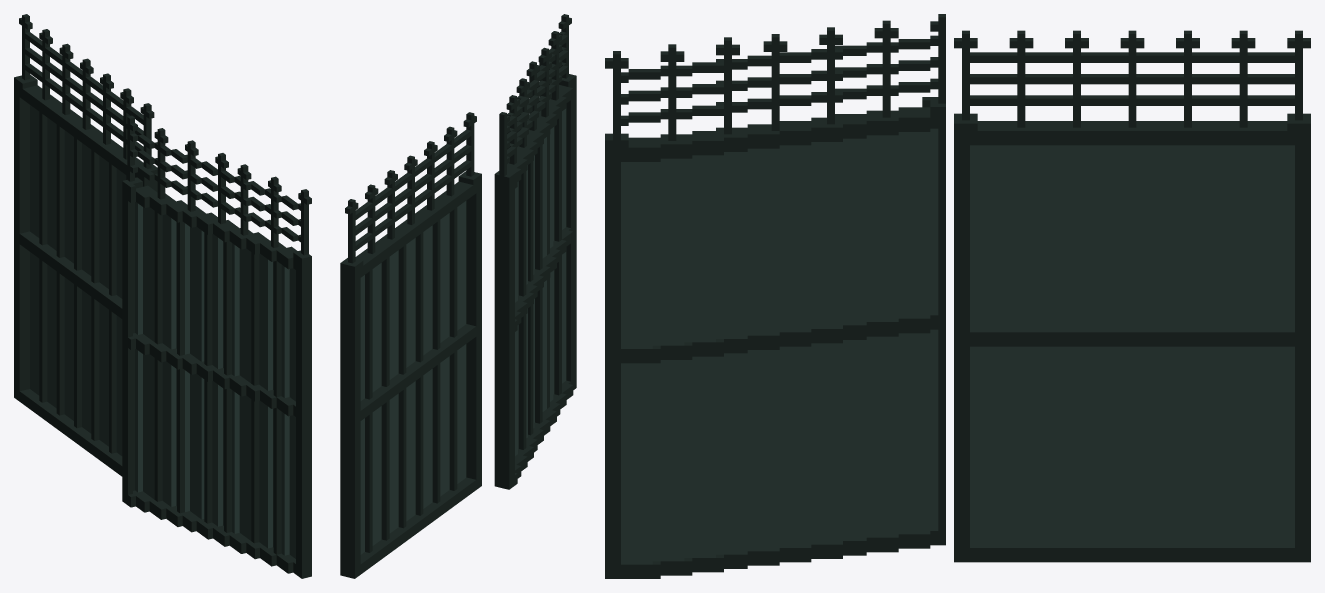
The model's file is Background_A_door_05.FBX.
The picture shows the model from 3 angles, left to right: view 1: azimuth 30°, elevation 25°; view 2: azimuth 150°, elevation 25°; view 3: azimuth 270°, elevation 25°; orthographic projection. The views are drawn at different scales.
Parts seen in each view (by area): view 1: Load_A-2; view 2: Load_A-2; view 3: Load_A-2.
Boxes of the visible parts, x1,y1,x2,y2 form: Load_A-2: [14, 14, 311, 578]; Load_A-2: [340, 14, 576, 578]; Load_A-2: [605, 14, 1310, 578].
Bounding box in the file's own units: 1.3 × 7.3 × 8.9.
Materials: 1 (1 with a texture image).
